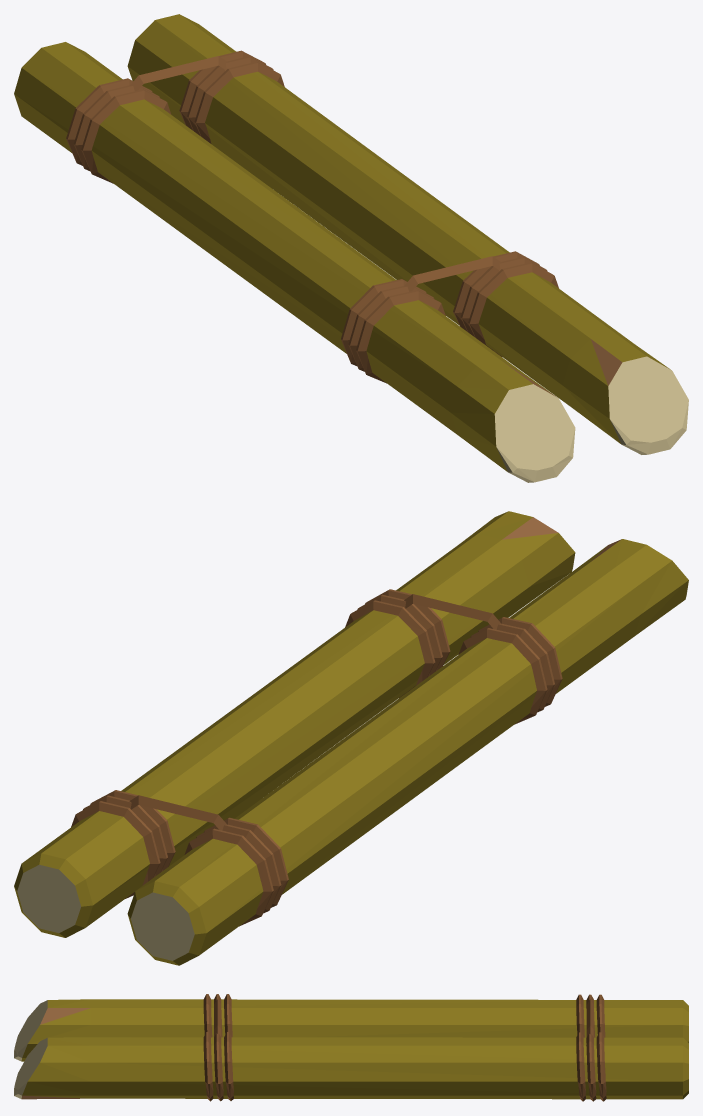
File: haka-pei-banana-trunk-4f6f3e.glb
3 views of the same model, one above another, from view 1: azimuth 30°, elevation 25°; view 2: azimuth 150°, elevation 25°; view 3: azimuth 270°, elevation 25° (orthographic). The views are drawn at different scales.
Parts seen in each view (by area): view 1: sled; view 2: sled; view 3: sled.
Part boxes in pixels (x1,y1,x2,y2): sled: [14, 14, 688, 482]; sled: [14, 511, 688, 965]; sled: [14, 994, 688, 1101].
Bounding box in the file's own units: 0.6004 × 0.2739 × 2.5.
